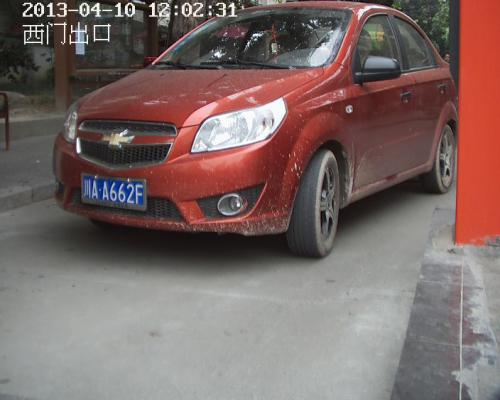Carplate: (78, 169, 151, 210)
